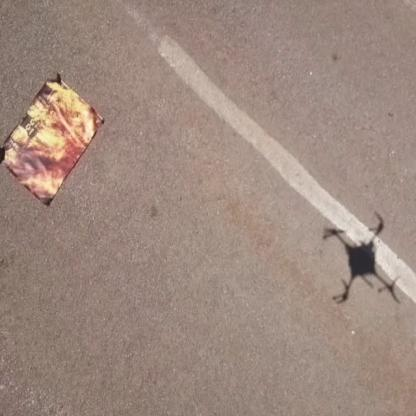fire-poster: (0, 71, 105, 208)
